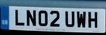character: (25, 8, 37, 26), (14, 8, 25, 26), (49, 9, 60, 27), (37, 9, 48, 26), (64, 10, 75, 27), (76, 10, 86, 28), (87, 10, 97, 28)
